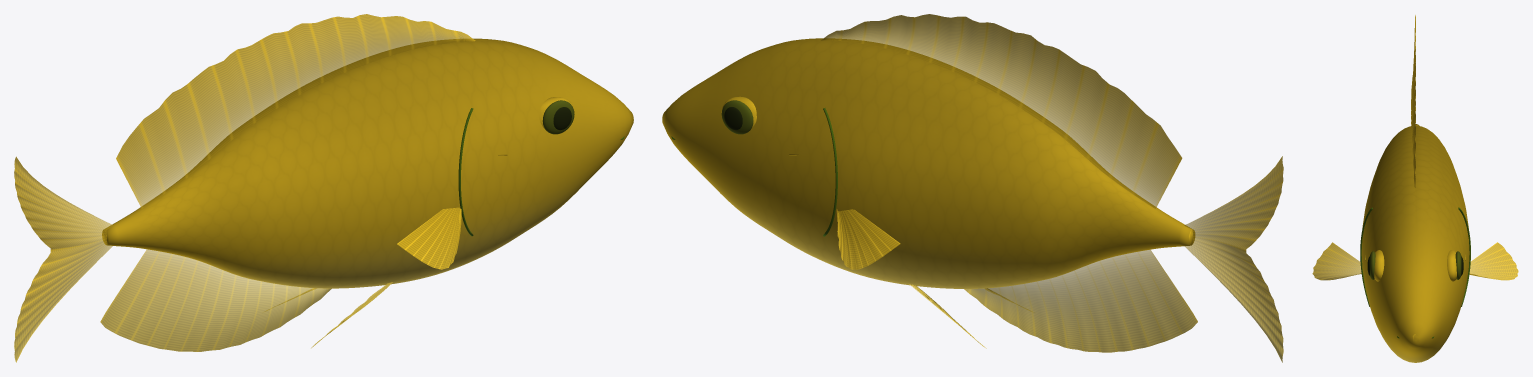
The model's file is assessor.glb.
3 renders of one model, left to right at view 1: azimuth 30°, elevation 25°; view 2: azimuth 150°, elevation 25°; view 3: azimuth 270°, elevation 25°, orthographic. The views are drawn at different scales.
Visible parts, largest first — view 1: Body, Median_Fins, Pectoral_Left, Eyes_Gills_Mouth; view 2: Body, Median_Fins, Pectoral_Right, Eyes_Gills_Mouth; view 3: Body, Eyes_Gills_Mouth, Pectoral_Right, Pectoral_Left, Median_Fins.
Boxes of the visible parts, left/top/right/bottom form: Body: left=102, top=38, right=633, bottom=288; Median_Fins: left=14, top=14, right=475, bottom=362; Pectoral_Left: left=397, top=207, right=461, bottom=269; Eyes_Gills_Mouth: left=458, top=97, right=624, bottom=236; Body: left=662, top=38, right=1194, bottom=288; Median_Fins: left=821, top=14, right=1283, bottom=362; Pectoral_Right: left=836, top=209, right=900, bottom=269; Eyes_Gills_Mouth: left=671, top=96, right=837, bottom=236; Body: left=1361, top=124, right=1469, bottom=362; Eyes_Gills_Mouth: left=1360, top=207, right=1470, bottom=338; Pectoral_Right: left=1469, top=242, right=1518, bottom=280; Pectoral_Left: left=1312, top=242, right=1361, bottom=280; Median_Fins: left=1411, top=15, right=1415, bottom=188.
Size of the model in its own units: 0.6124 by 0.2906 by 0.2251.
Materials: 5 (2 with a texture image).
